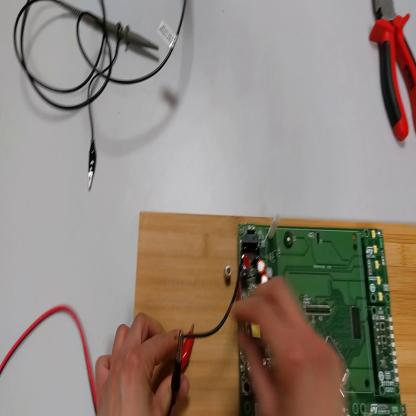hand: (232, 279, 349, 414), (95, 314, 182, 416)
low voltage board: (177, 211, 409, 416)
oscilloscope probe tip: (57, 1, 160, 55)
pliers: (371, 1, 416, 144)
working area: (130, 212, 416, 415)
